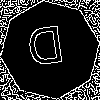D: (25, 25, 67, 76)
